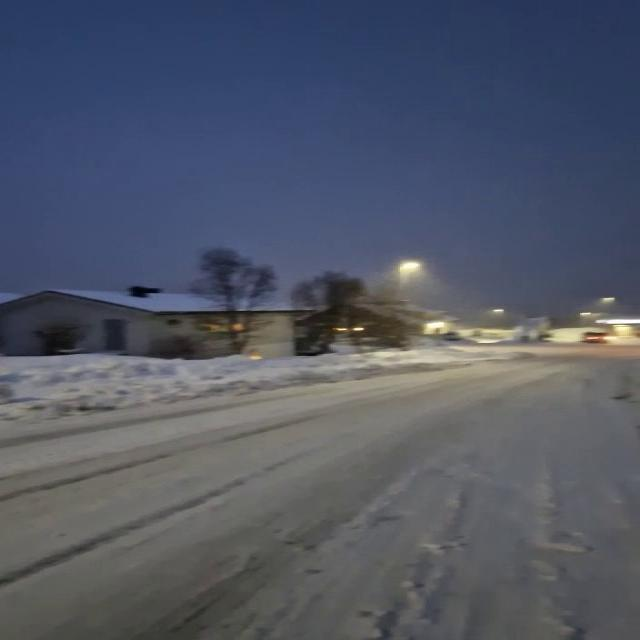path: (2, 345, 638, 640)
